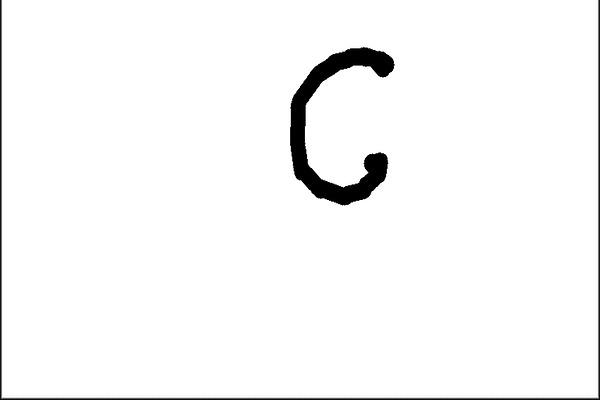C: (281, 42, 399, 206)
